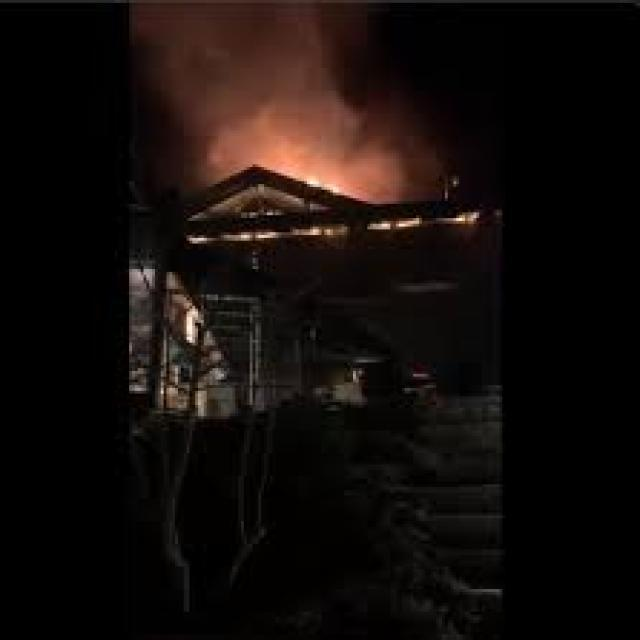Smoke: (128, 0, 424, 214)
